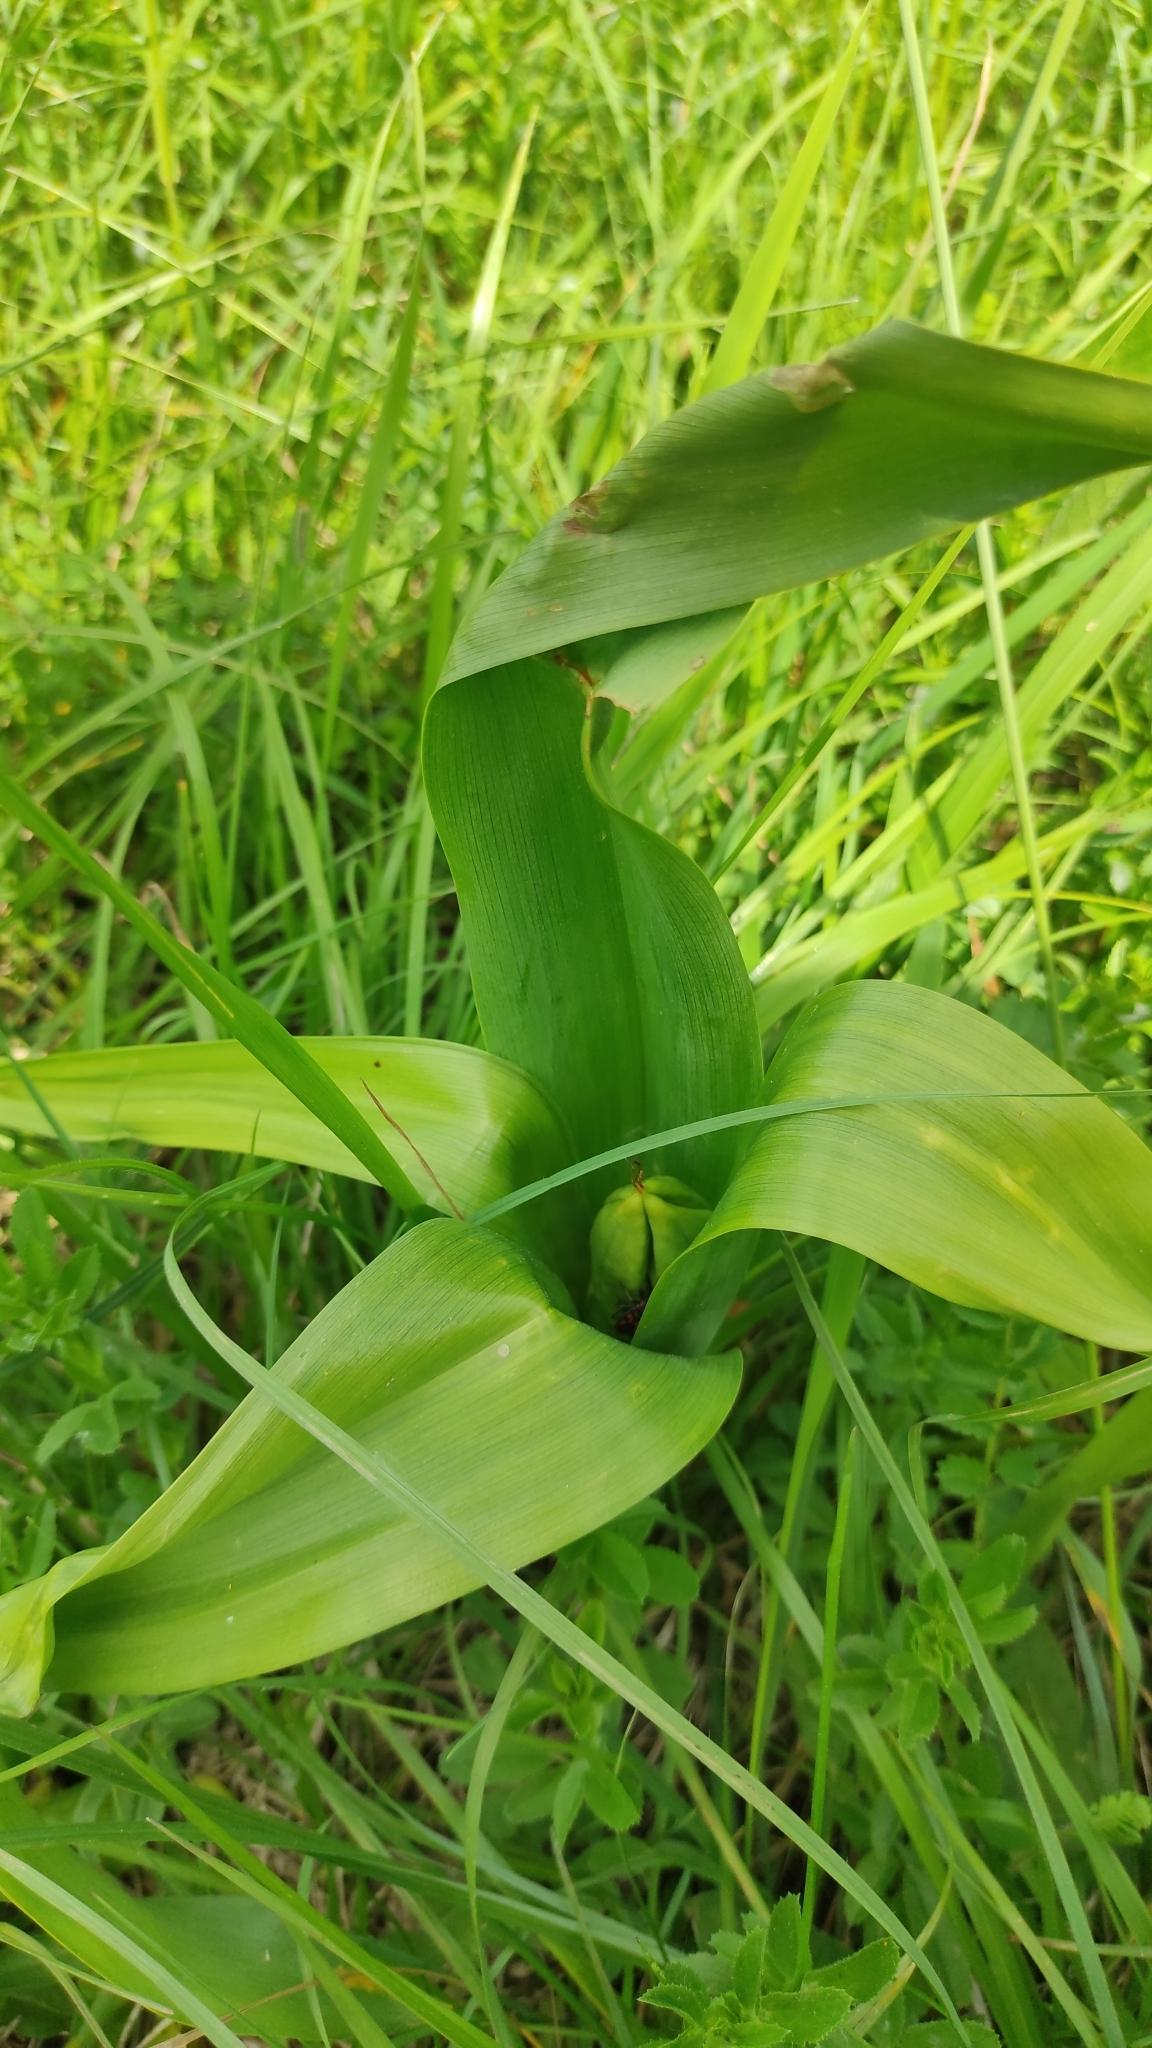Colchicum autumnale L: (113, 328, 1138, 1838)
